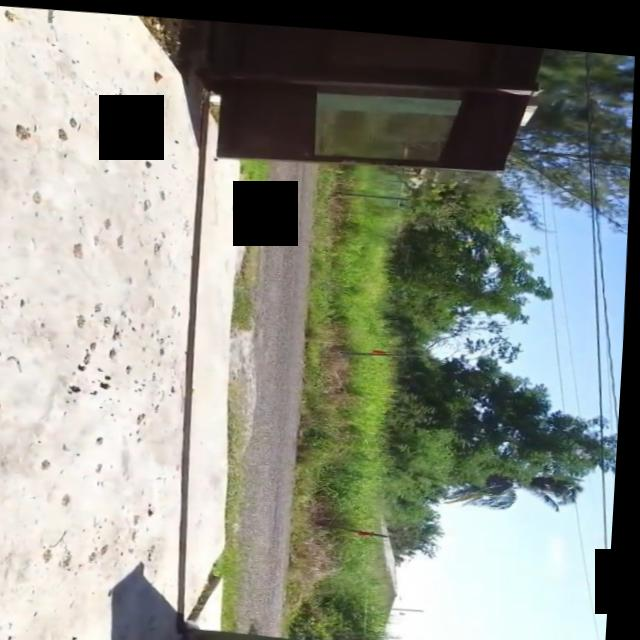Building: (184, 13, 529, 182), (182, 622, 504, 640)
Pole: (349, 338, 426, 357), (336, 516, 394, 531)
